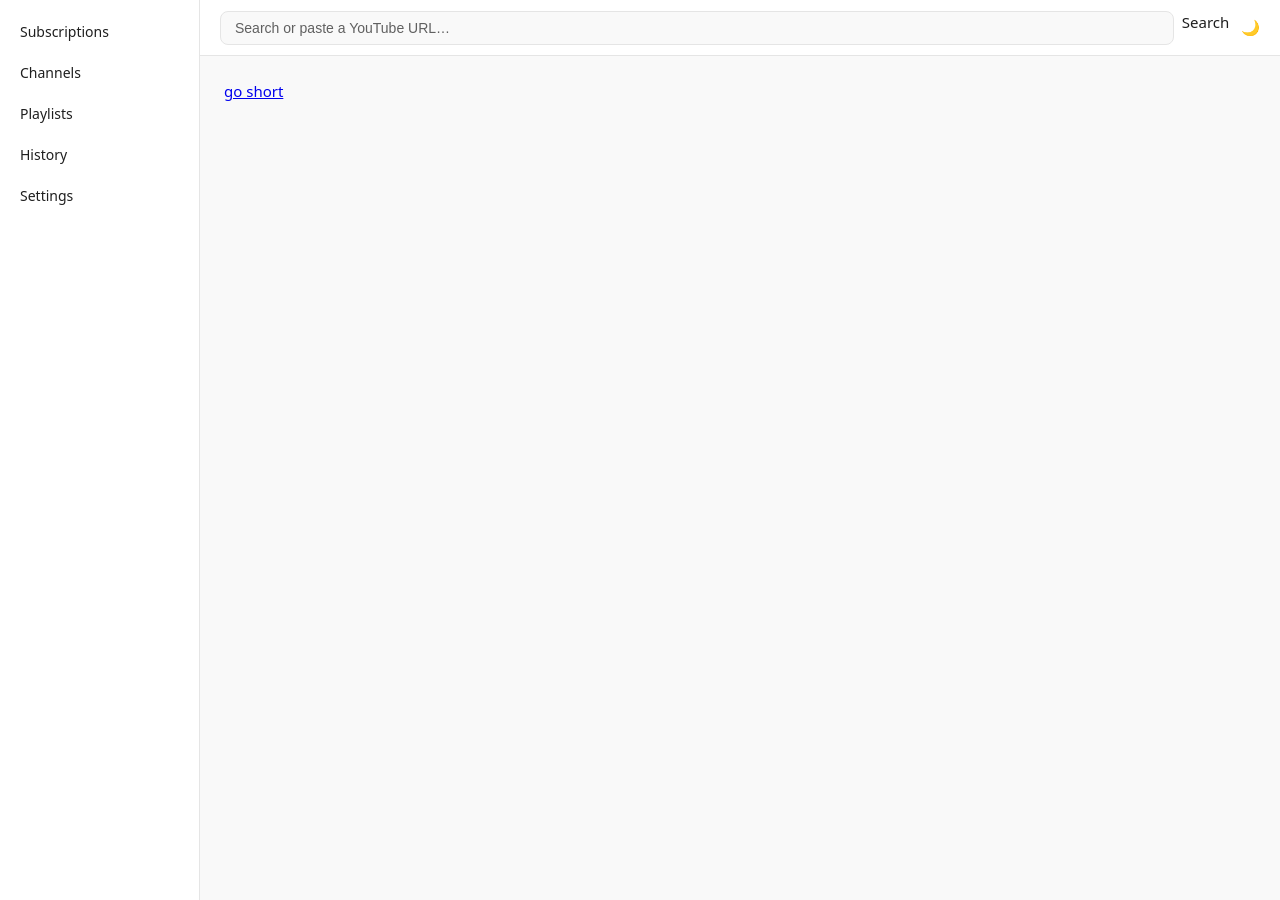
Scenario: scroll reset on navigation › returns the content container to the top when the route changes
What coordinates should you click on to do the following:
click the link "go short"
I would click on:
 (254, 91)
Its box is [224, 81, 283, 101].
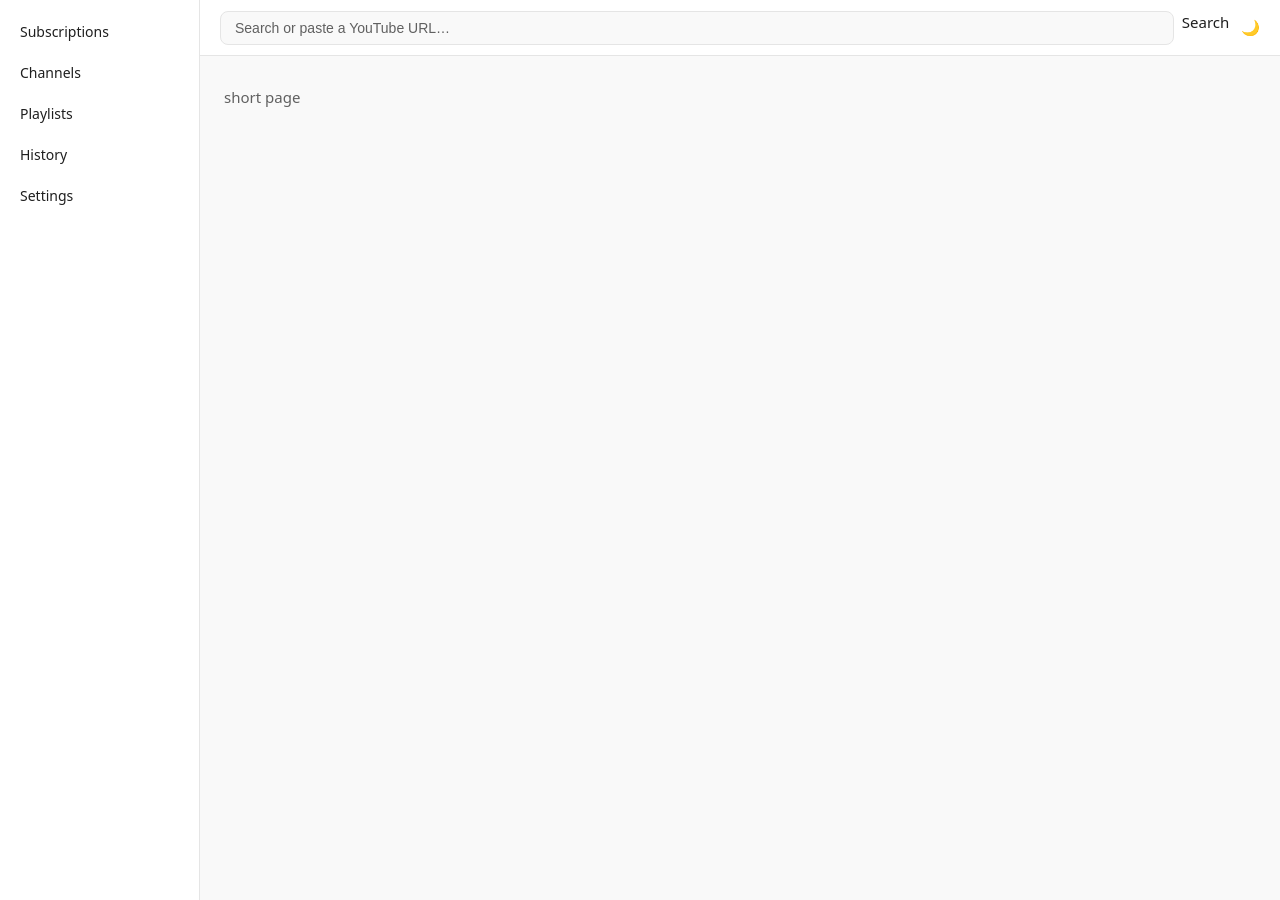
Check: the text "short page" is shown, box [224, 87, 300, 107]
